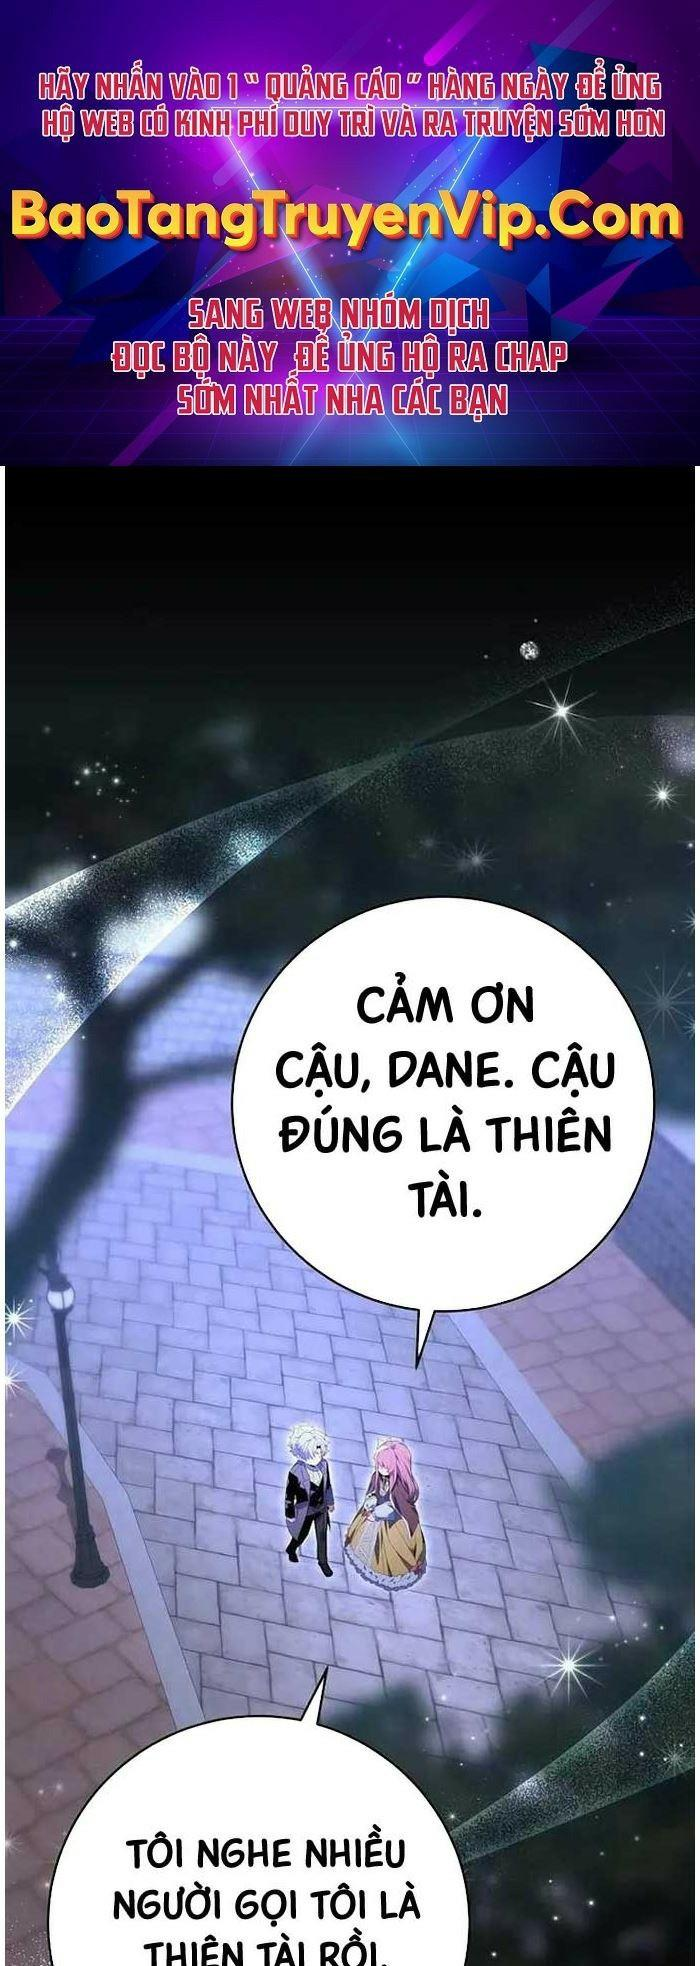quangcao: (5, 5, 700, 470)
